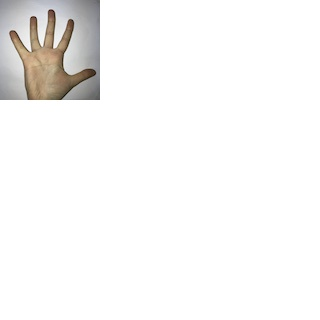paper: (6, 5, 96, 100)
